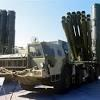MIL_SAM_TEL: (0, 10, 98, 90)
